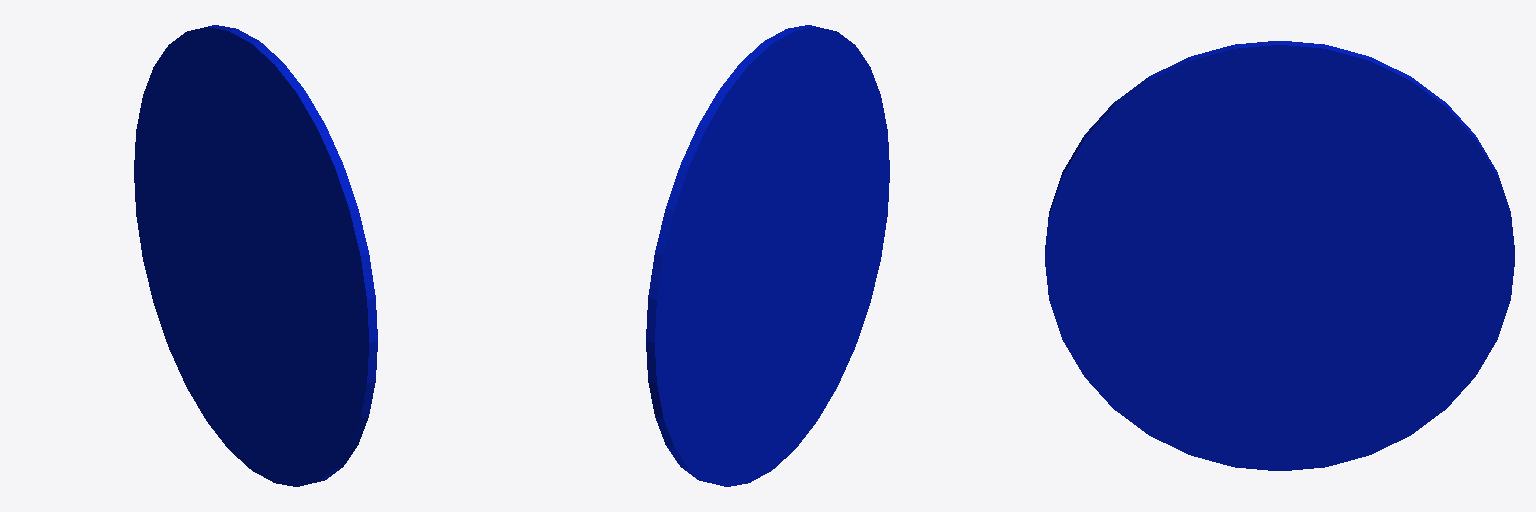
File: slider_gear_backpanel.obj
The picture shows the model from 3 angles: view 1: azimuth 30°, elevation 25°; view 2: azimuth 150°, elevation 25°; view 3: azimuth 270°, elevation 25°; orthographic projection.
Visible parts, largest first — view 1: BumpCylinder.001_Cylinder.008; view 2: BumpCylinder.001_Cylinder.008; view 3: BumpCylinder.001_Cylinder.008.
Part boxes in pixels (x1,y1,x2,y2): BumpCylinder.001_Cylinder.008: (134, 25, 377, 486); BumpCylinder.001_Cylinder.008: (646, 25, 889, 486); BumpCylinder.001_Cylinder.008: (1045, 41, 1514, 470).
Bounding box in the file's own units: 0.1803 × 8.4 × 8.4.